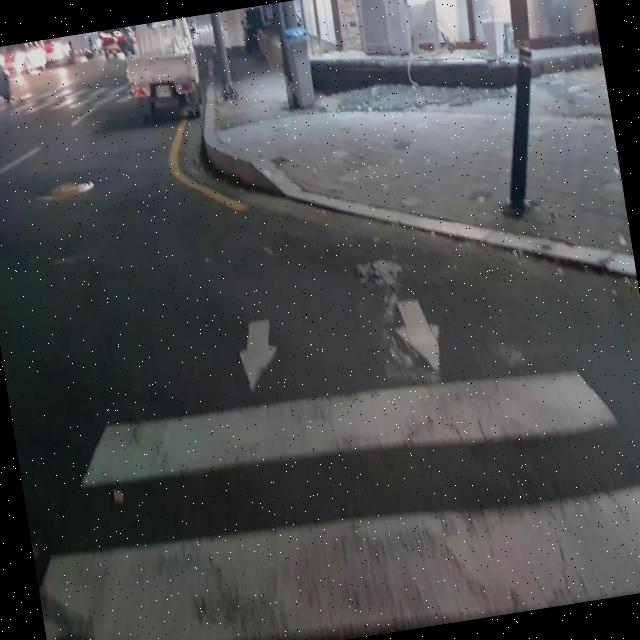crosswalk: (40, 283, 640, 640), (0, 78, 133, 122)
